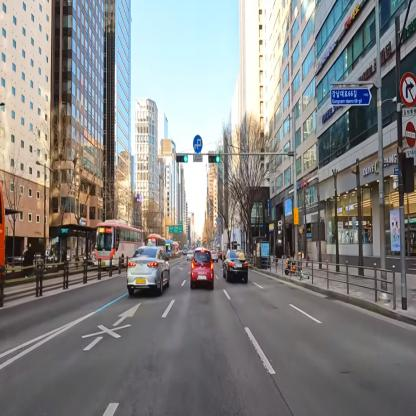Green: (176, 151, 188, 163), (208, 154, 220, 164)
